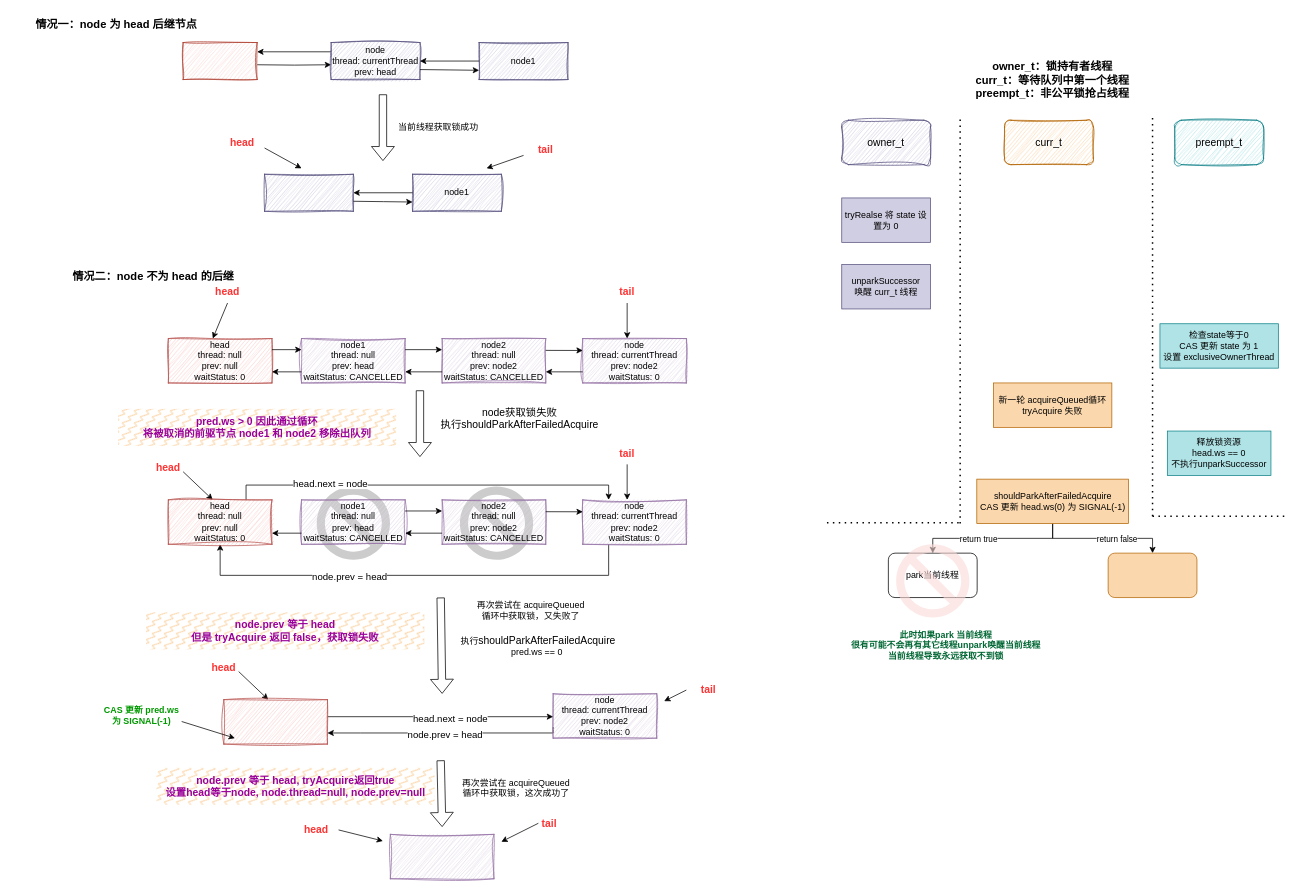
Image size: 1299x892. Some labels were removed from this diagram. The box of each missing label's shape, as (x1, y1, x2, y2) in pixels:
head thread: null prev: null: (182, 42, 257, 80)
head thread: null prev: null waitStatus: SIGNAL: (223, 699, 327, 744)
node thread: null prev: null: (264, 174, 353, 211)
node thread: null prev: null waitStatus: 0: (390, 834, 494, 879)
空转，再次尝试 tryAcquire 获取锁: (1107, 552, 1197, 598)
